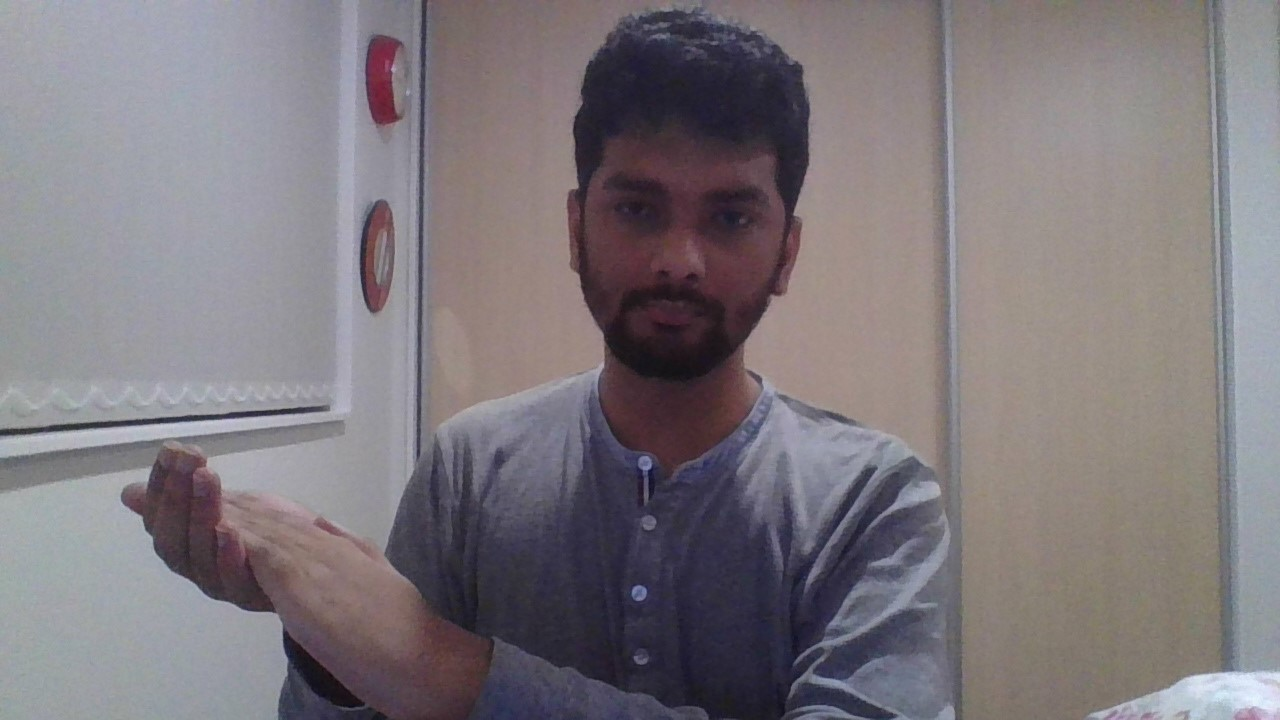clear: (123, 439, 437, 720)
